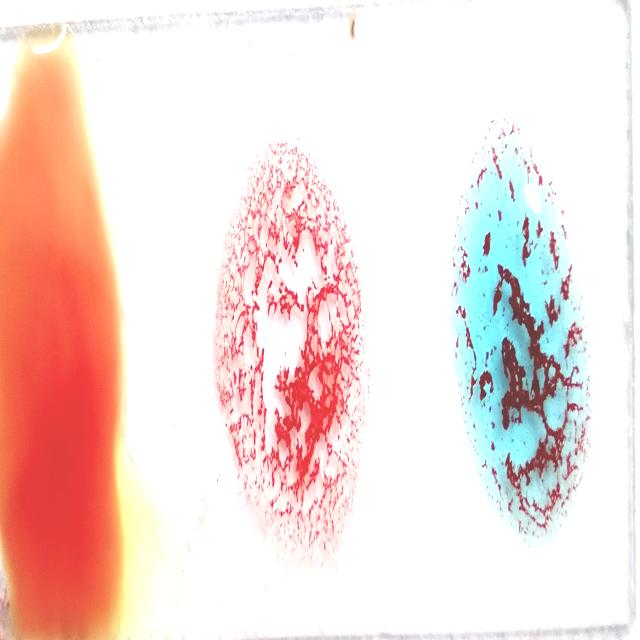A: (448, 112, 600, 558)
D: (221, 115, 371, 562)
